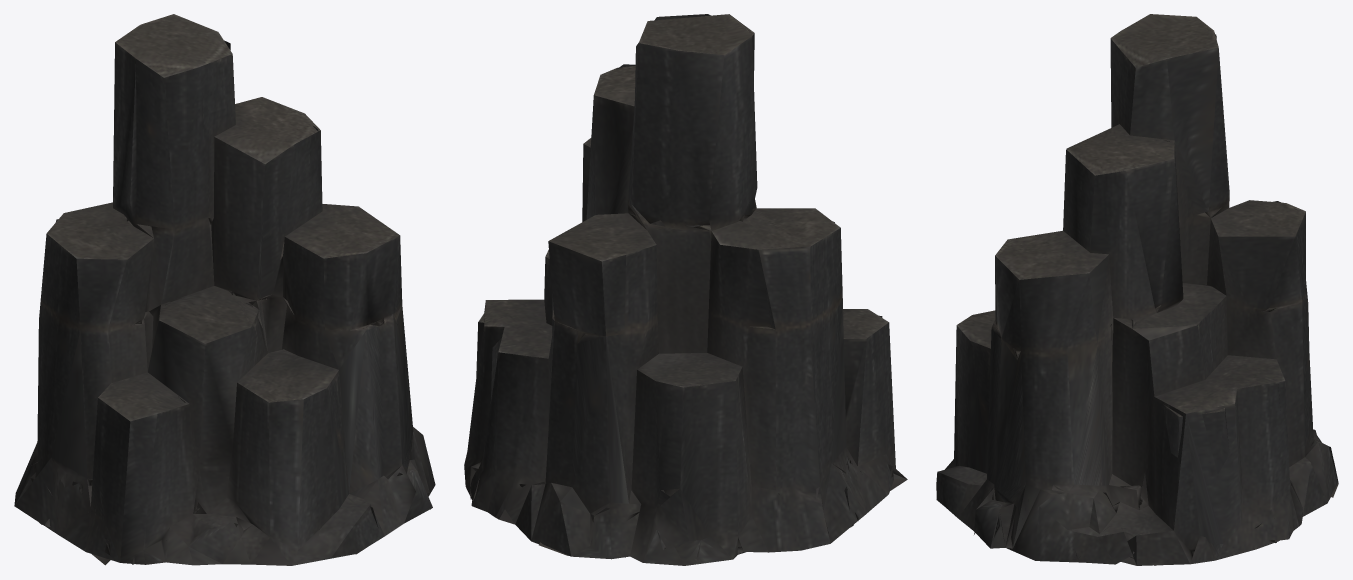
3 renders of one model, left to right at view 1: azimuth 30°, elevation 25°; view 2: azimuth 150°, elevation 25°; view 3: azimuth 270°, elevation 25°, orthographic. The views are drawn at different scales.
Visible parts, largest first — view 1: volcanic-basalt-columns.002; view 2: volcanic-basalt-columns.002; view 3: volcanic-basalt-columns.002.
Part boxes in pixels (box(x1,y1,x2,y2)): volcanic-basalt-columns.002: box(14, 14, 435, 565); volcanic-basalt-columns.002: box(464, 14, 907, 565); volcanic-basalt-columns.002: box(936, 14, 1338, 565).
Bounding box in the file's own units: 3.8 × 4.62 × 3.87.
Materials: 1 (1 with a texture image).
